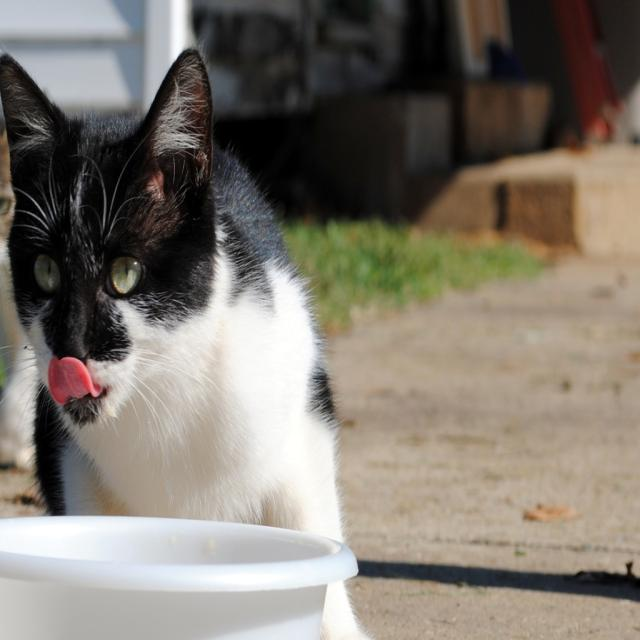Cat: (0, 44, 359, 638), (0, 125, 33, 470)
